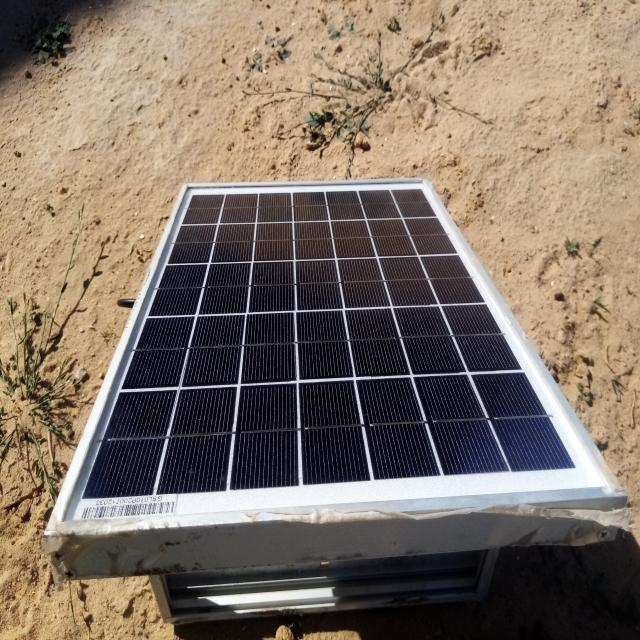Normal Solar Panel: (46, 183, 620, 535)
